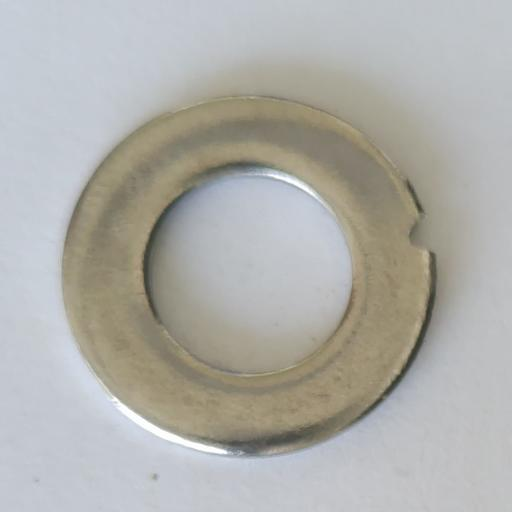burr: (408, 215, 437, 256)
